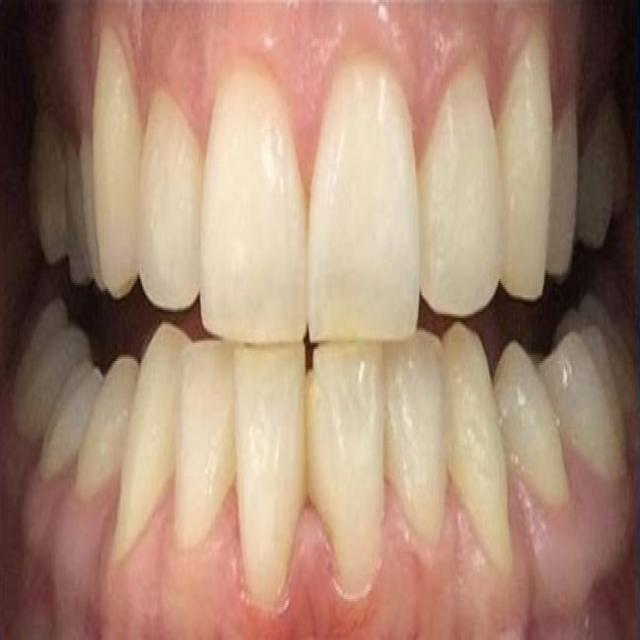1st Molar: (538, 322, 624, 482), (575, 92, 631, 250), (39, 367, 102, 483), (29, 121, 66, 267)
1st Premolar: (493, 343, 570, 509), (74, 357, 140, 500), (549, 98, 578, 279), (82, 133, 96, 276)
2nd Molar: (14, 299, 93, 447), (557, 287, 637, 418)
2nd Premolar: (65, 140, 86, 286)
Canine: (113, 322, 188, 564), (442, 324, 511, 572), (498, 29, 552, 302), (93, 31, 140, 299)
Central Incisor: (306, 55, 420, 345), (200, 68, 308, 345), (306, 342, 388, 601), (233, 345, 306, 607)
Lateral Incisor: (417, 64, 504, 316), (138, 90, 204, 312), (384, 330, 448, 552), (175, 338, 234, 550)
